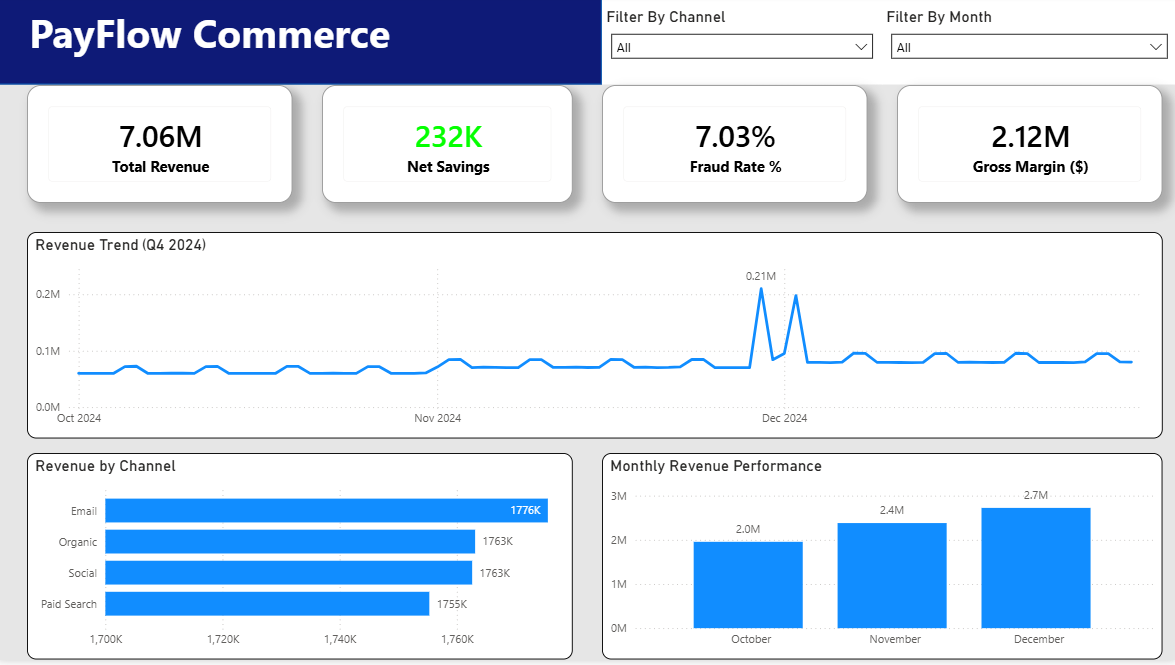

The dashboard page shown, as its layout file describes it:
{"tool":"powerbi","page":{"name":"Exec Summary","canvas":[1280,720],"ordinal":0},"visuals":[{"type":"shape","box":[0,0,656,96],"z":0},{"type":"lineChart","title":"Revenue Trend (Q4 2024)","fields":{"Y":["fraud_flagged.Total Revenue"],"Category":["Date Table.Date"]},"box":[336,352,928,176],"z":1000},{"type":"clusteredBarChart","title":"Revenue by Channel","fields":{"Category":["transactions_clean.acquisition_channel"],"Y":["fraud_flagged.Channel Revenue"]},"box":[32,544,592,176],"z":2000},{"type":"slicer","title":"Filter By Channel","fields":{"Values":["transactions_clean.acquisition_channel"]},"box":[656,0,304,96],"z":3000},{"type":"clusteredColumnChart","title":"Monthly Revenue Performance","fields":{"Category":["Date Table.Date.Variation.Date Hierarchy.Month"],"Y":["fraud_flagged.Total Revenue"]},"box":[656,544,608,176],"z":4000},{"type":"slicer","title":"Filter By Month","fields":{"Values":["Date Table.Month Name"]},"box":[960,0,320,96],"z":5000},{"type":"cardVisual","fields":{"Data":["fraud_flagged.Total Revenue"]},"box":[32,96,288,112],"z":6000},{"type":"cardVisual","fields":{"Data":["fraud_flagged.Net Savings"]},"box":[336,96,288,112],"z":7000},{"type":"cardVisual","fields":{"Data":["fraud_flagged.Fraud Caught ($)"]},"box":[656,96,288,112],"z":8000},{"type":"cardVisual","fields":{"Data":["fraud_flagged.Fraud Rate %"]},"box":[976,96,288,112],"z":9000},{"type":"cardVisual","fields":{"Data":["fraud_flagged.ROI"]},"box":[976,224,288,112],"z":10000},{"type":"cardVisual","fields":{"Data":["Date Table.Average Order Value"]},"box":[656,224,288,112],"z":11000},{"type":"cardVisual","fields":{"Data":["transactions_clean.Review Cost"]},"box":[336,224,288,112],"z":12000},{"type":"cardVisual","fields":{"Data":["transactions_clean.Transaction Count"]},"box":[32,224,288,112],"z":13000}]}

Visuals, with their boxes in screenshot pixels (x1, y1, x2, y2), scaled from the page's 1280x720 canvas onto the 1175x665 screenshot:
shape: 0, 0, 602, 89
"Revenue Trend (Q4 2024)" lineChart: 308, 325, 1160, 488
"Revenue by Channel" clusteredBarChart: 29, 502, 573, 664
"Filter By Channel" slicer: 602, 0, 881, 89
"Monthly Revenue Performance" clusteredColumnChart: 602, 502, 1160, 664
"Filter By Month" slicer: 881, 0, 1174, 89
cardVisual - fraud_flagged.Total Revenue: 29, 89, 294, 192
cardVisual - fraud_flagged.Net Savings: 308, 89, 573, 192
cardVisual - fraud_flagged.Fraud Caught ($): 602, 89, 867, 192
cardVisual - fraud_flagged.Fraud Rate %: 896, 89, 1160, 192
cardVisual - fraud_flagged.ROI: 896, 207, 1160, 310
cardVisual - Date Table.Average Order Value: 602, 207, 867, 310
cardVisual - transactions_clean.Review Cost: 308, 207, 573, 310
cardVisual - transactions_clean.Transaction Count: 29, 207, 294, 310
